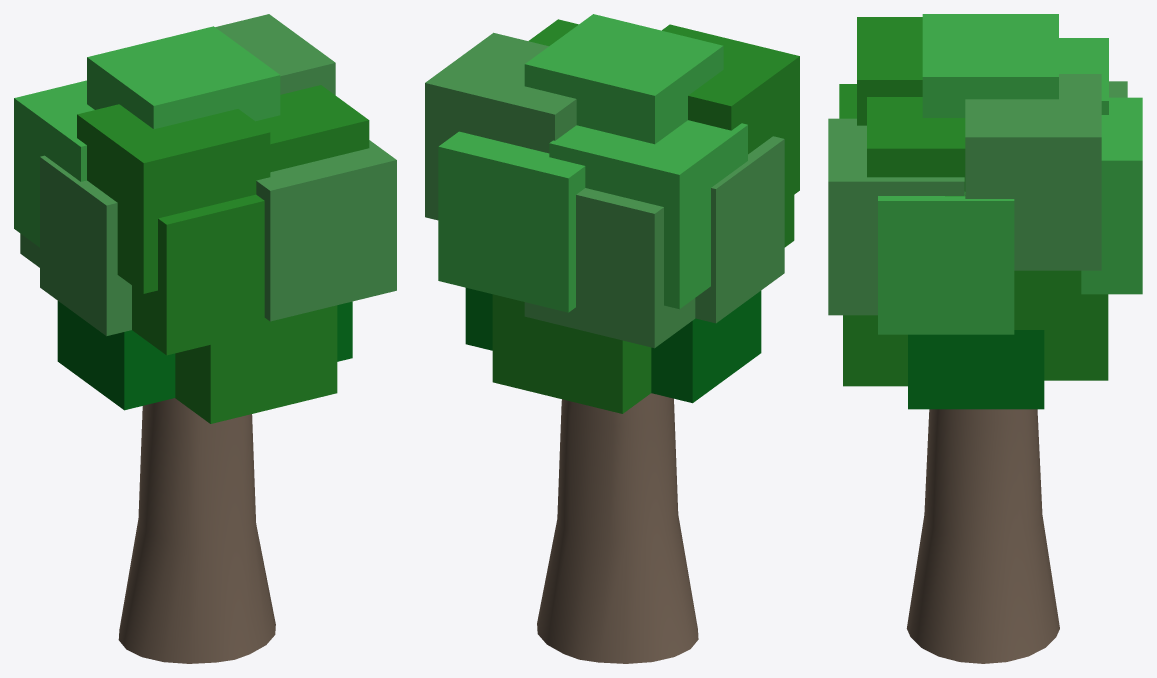
File: newTree1.fbx
The picture shows the model from 3 angles, left to right: view 1: azimuth 30°, elevation 25°; view 2: azimuth 150°, elevation 25°; view 3: azimuth 270°, elevation 25°; orthographic projection. The views are drawn at different scales.
Parts seen in each view (by area): view 1: polySurface56; view 2: polySurface56; view 3: polySurface56.
Part boxes in pixels (x1,y1,x2,y2): polySurface56: (14,14,396,663); polySurface56: (425,14,799,663); polySurface56: (828,14,1142,663).
Size of the model in its own units: 0.846 by 1.76 by 0.8668.
